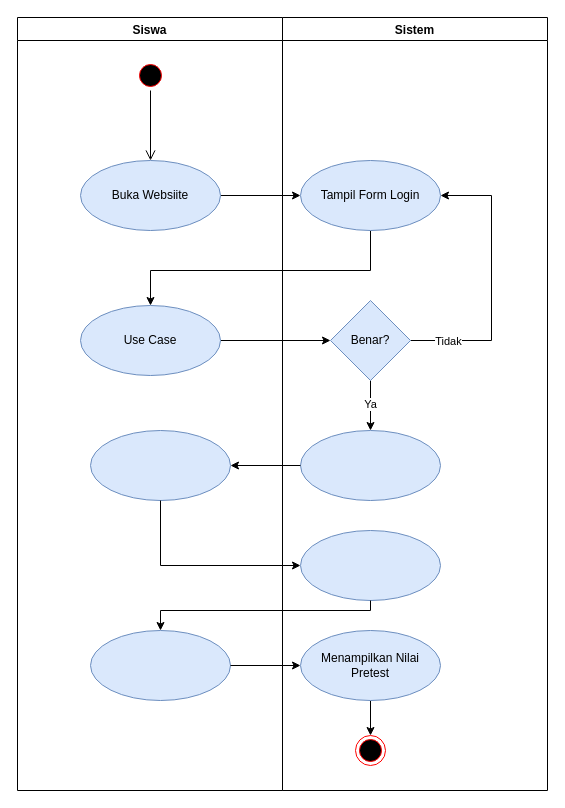
Image size: 565x808. Some labels were removed from this diagram. The centre of each missing label's shape, as x and y in pixels:
"Menampilkan soal pretest" goes at pixel 370 565.
"Mengerjakan Pretest" goes at pixel 160 665.
"Pretest" goes at pixel 160 465.
"Tampil Menu Utama" goes at pixel 370 465.
